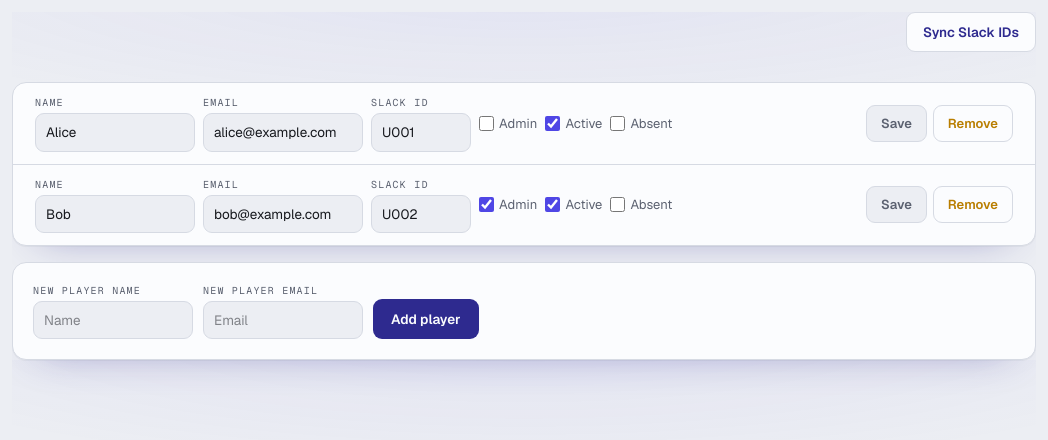
Test: RosterManager: Remove button (deactivate) › shows an error alert and does not throw when the remove response is not ok
The image size is (1048, 440).
Click the 1st button "Remove": (973, 123) [933,105,1013,142]
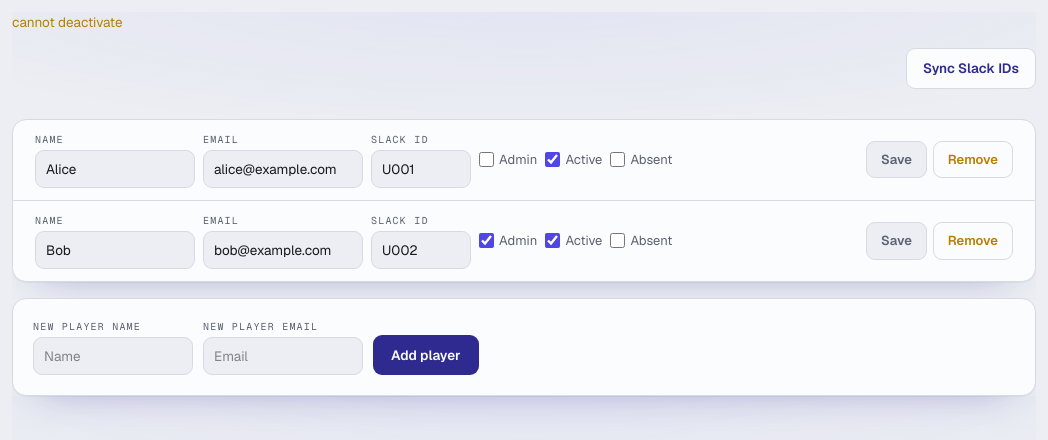
Expected: the message "cannot deactivate" is shown, [12,13,122,31]
